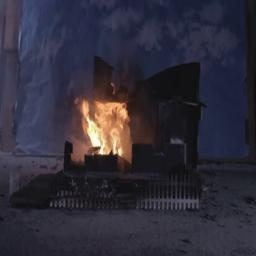fire: (71, 87, 135, 161)
